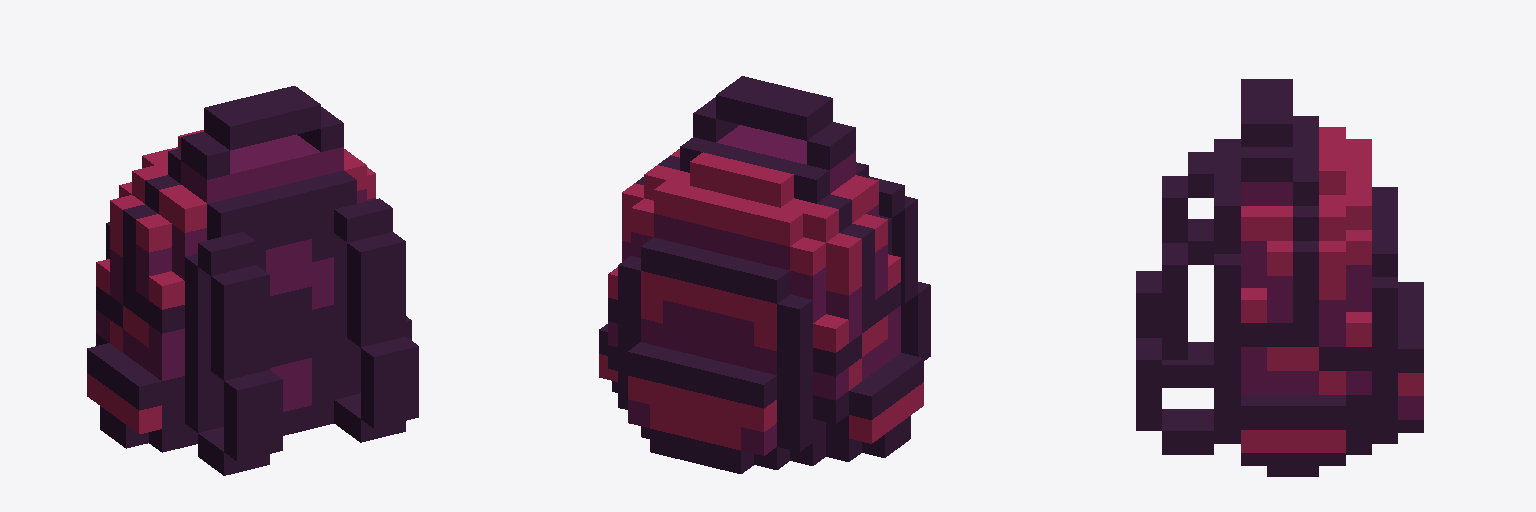
3 views of the same model, side by side, from view 1: azimuth 30°, elevation 25°; view 2: azimuth 150°, elevation 25°; view 3: azimuth 270°, elevation 25° (orthographic).
Parts seen in each view (by area): view 1: Bag.036_Bag.037; view 2: Bag.036_Bag.037; view 3: Bag.036_Bag.037.
Boxes of the visible parts, x1=… form: Bag.036_Bag.037: x1=87, y1=86, x2=418, y2=475; Bag.036_Bag.037: x1=599, y1=76, x2=930, y2=473; Bag.036_Bag.037: x1=1136, y1=79, x2=1423, y2=476.
Size of the model in its own units: 1.2 by 1.3 by 1.1.
1 materials, 1 textured.